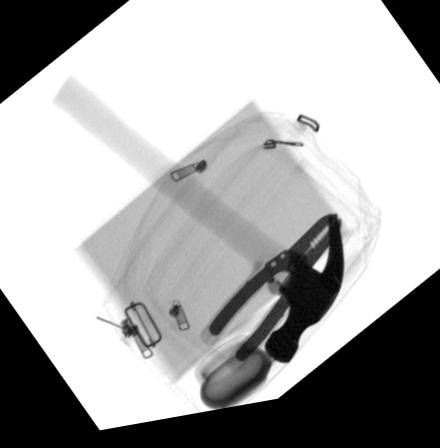Hammer: (51, 78, 345, 373)
Pliers: (200, 223, 343, 379)
